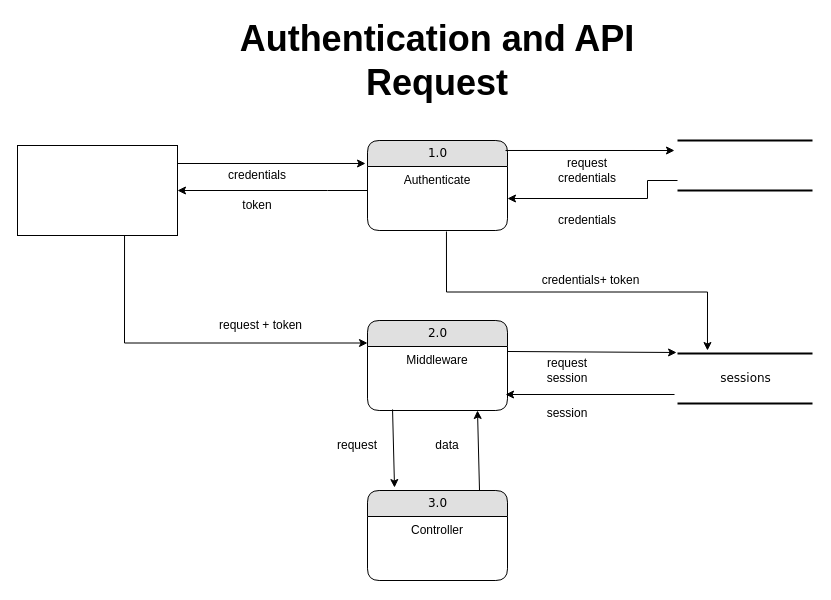
The diagram is 831 pixels wide and 600 high, and some of its shapes have lost their labels. The box of each missing label's shape, as (x1, y1, x2, y2) in pixels:
User: (16, 144, 178, 236)
users: (676, 139, 813, 191)
